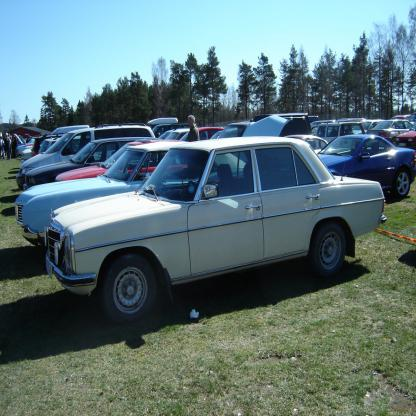Car: (14, 111, 415, 327)
